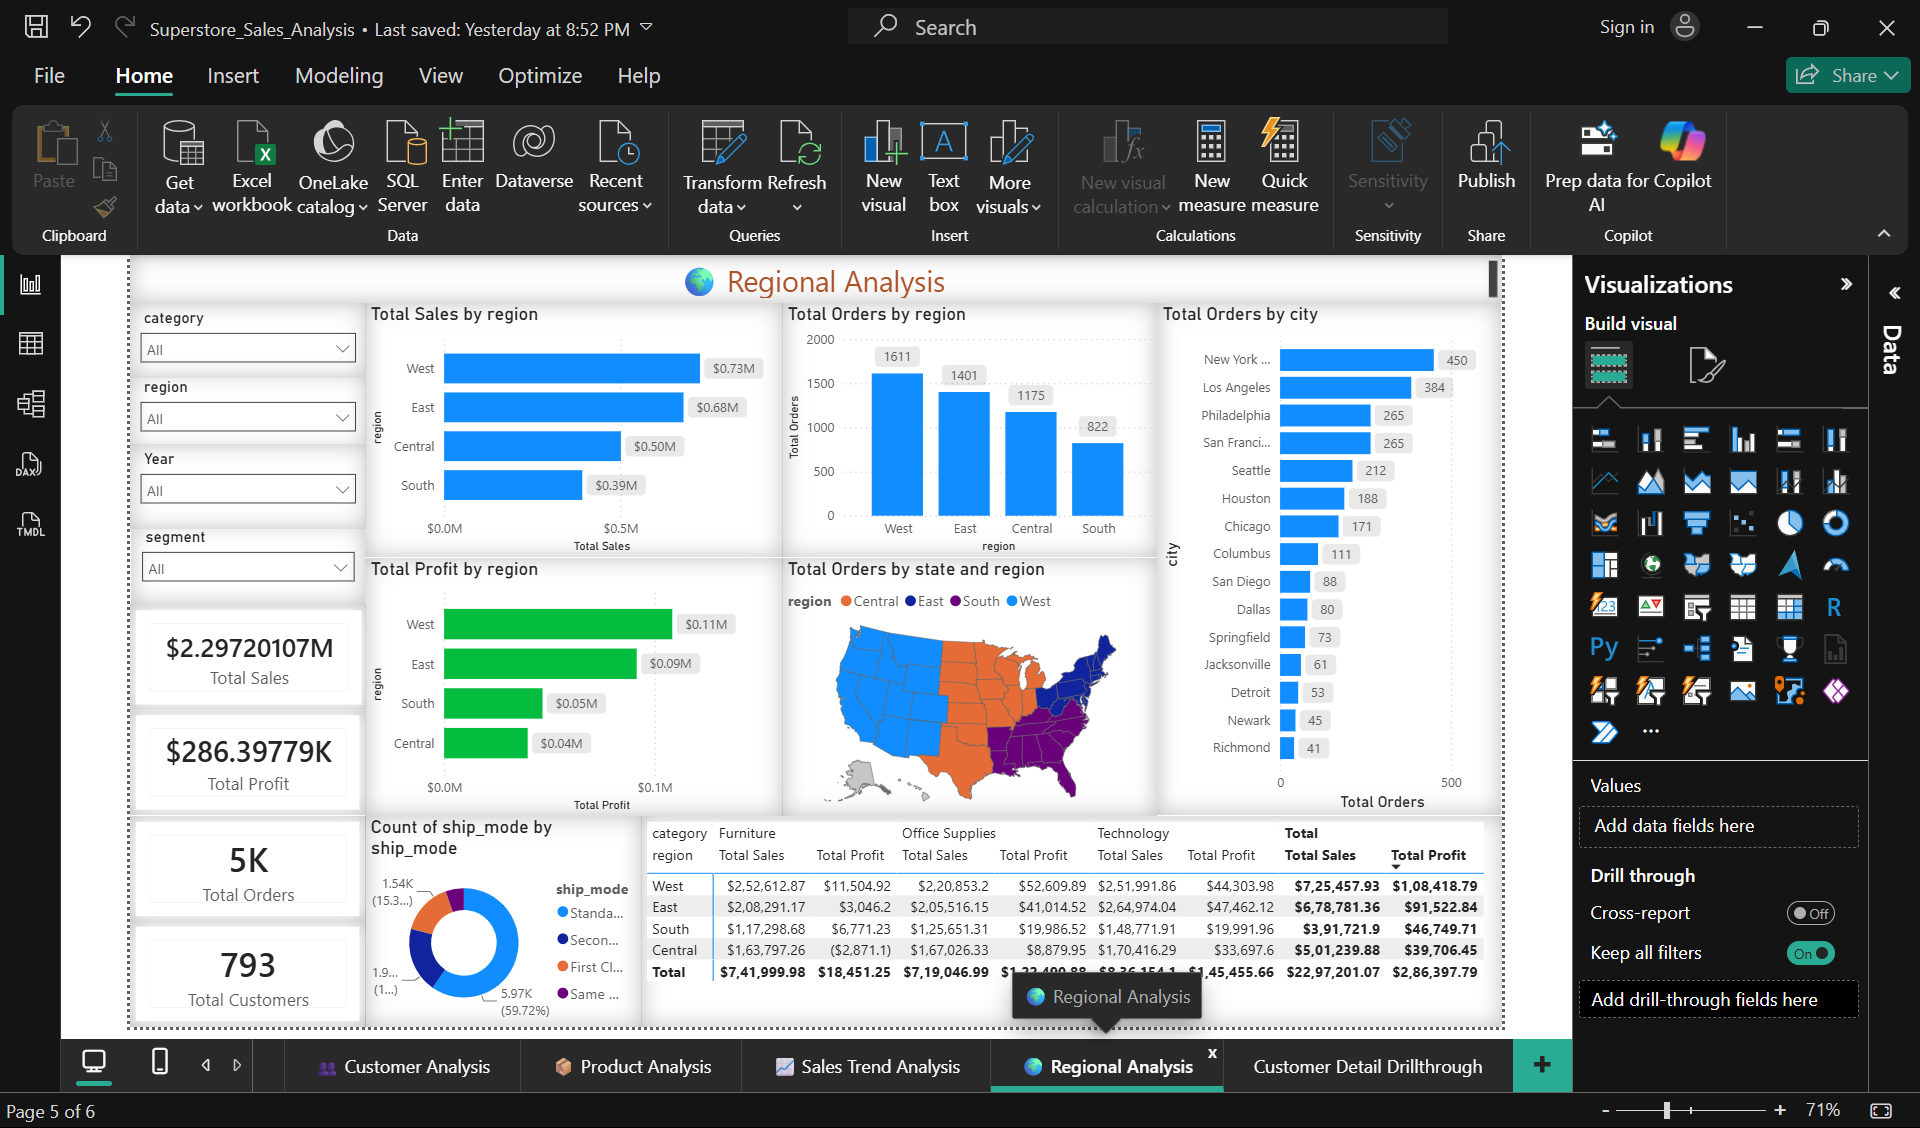

This screenshot's page, from the dashboard's own definition file:
{"tool":"powerbi","page":{"name":"🌍 Regional Analysis","canvas":[1280,720],"ordinal":4},"visuals":[{"type":"cardVisual","fields":{"Data":["public orders.Total Profit"]},"box":[0,424,219.8,98.6],"z":0},{"type":"cardVisual","fields":{"Data":["public orders.Total Orders"]},"box":[0,522.6,219.8,98.6],"z":1000},{"type":"cardVisual","fields":{"Data":["public orders.Total Sales"]},"box":[0,325.3,221.5,98.6],"z":2000},{"type":"cardVisual","fields":{"Data":["public orders.Total Customers"]},"box":[0,621.3,219.8,98.6],"z":3000},{"type":"textbox","box":[0,0,1280.6,45],"z":4000},{"type":"group","id":"g1","title":"Group 1","box":[0,45,221.5,280.3],"z":5000},{"type":"clusteredBarChart","fields":{"Category":["public orders.region"],"Y":["public orders.Total Sales"]},"box":[219.8,45,389.4,237.1],"z":6000},{"type":"clusteredBarChart","fields":{"Category":["public orders.region"],"Y":["public orders.Total Profit"]},"box":[219.8,282.1,389.4,240.5],"z":7000},{"type":"shapeMap","fields":{"Series":["public orders.region"],"Value":["public orders.Total Orders"],"Category":["public orders.state"]},"box":[609.1,282.1,349.6,240.5],"z":8000},{"type":"columnChart","fields":{"Category":["public orders.region"],"Y":["public orders.Total Orders"]},"box":[609.1,45,349.6,237.1],"z":9000},{"type":"barChart","fields":{"Y":["public orders.Total Orders"],"Category":["public orders.city"]},"box":[958.7,45,320.1,477.6],"z":10000},{"type":"donutChart","fields":{"Y":["CountNonNull(public orders.ship_mode)"],"Category":["public orders.ship_mode"]},"box":[219.8,522.6,257.8,197.3],"z":11000},{"type":"pivotTable","fields":{"Rows":["public orders.region"],"Columns":["public orders.category"],"Values":["public orders.Total Sales","public orders.Total Profit"]},"box":[477.6,522.6,803,197.3],"z":12000},{"type":"slicer","fields":{"Values":["public orders.segment"]},"box":[1.7,248.8,217.7,77.5],"z":14000,"group":"g1"},{"type":"slicer","fields":{"Values":["public orders.region"]},"box":[0,108.7,220.9,73.9],"z":15000,"group":"g1"},{"type":"slicer","fields":{"Values":["public orders.order_date.Variation.Date Hierarchy.Year"]},"box":[0,176,220.9,79.3],"z":16000,"group":"g1"},{"type":"slicer","fields":{"Values":["public orders.category"]},"box":[0,45,220.9,70.3],"z":17000,"group":"g1"}]}

Visuals, with their boxes on the page's 1280x720 design canvas (x1, y1, x2, y2). These are canvas units, not pixel positions in the 1920x1128 screenshot, which may show the page scaled, cropped or inside an application window:
cardVisual - public orders.Total Profit: Rect(0, 424, 220, 523)
cardVisual - public orders.Total Orders: Rect(0, 523, 220, 621)
cardVisual - public orders.Total Sales: Rect(0, 325, 222, 424)
cardVisual - public orders.Total Customers: Rect(0, 621, 220, 720)
textbox: Rect(0, 0, 1281, 45)
"Group 1" group: Rect(0, 45, 222, 325)
clusteredBarChart - public orders.region x public orders.Total Sales: Rect(220, 45, 609, 282)
clusteredBarChart - public orders.region x public orders.Total Profit: Rect(220, 282, 609, 523)
shapeMap - public orders.region x public orders.Total Orders: Rect(609, 282, 959, 523)
columnChart - public orders.region x public orders.Total Orders: Rect(609, 45, 959, 282)
barChart - public orders.Total Orders x public orders.city: Rect(959, 45, 1279, 523)
donutChart - CountNonNull(public orders.ship_mode) x public orders.ship_mode: Rect(220, 523, 478, 720)
pivotTable - public orders.region x public orders.category: Rect(478, 523, 1281, 720)
slicer - public orders.segment: Rect(2, 249, 219, 326)
slicer - public orders.region: Rect(0, 109, 221, 183)
slicer - public orders.order_date.Variation.Date Hierarchy.Year: Rect(0, 176, 221, 255)
slicer - public orders.category: Rect(0, 45, 221, 115)
